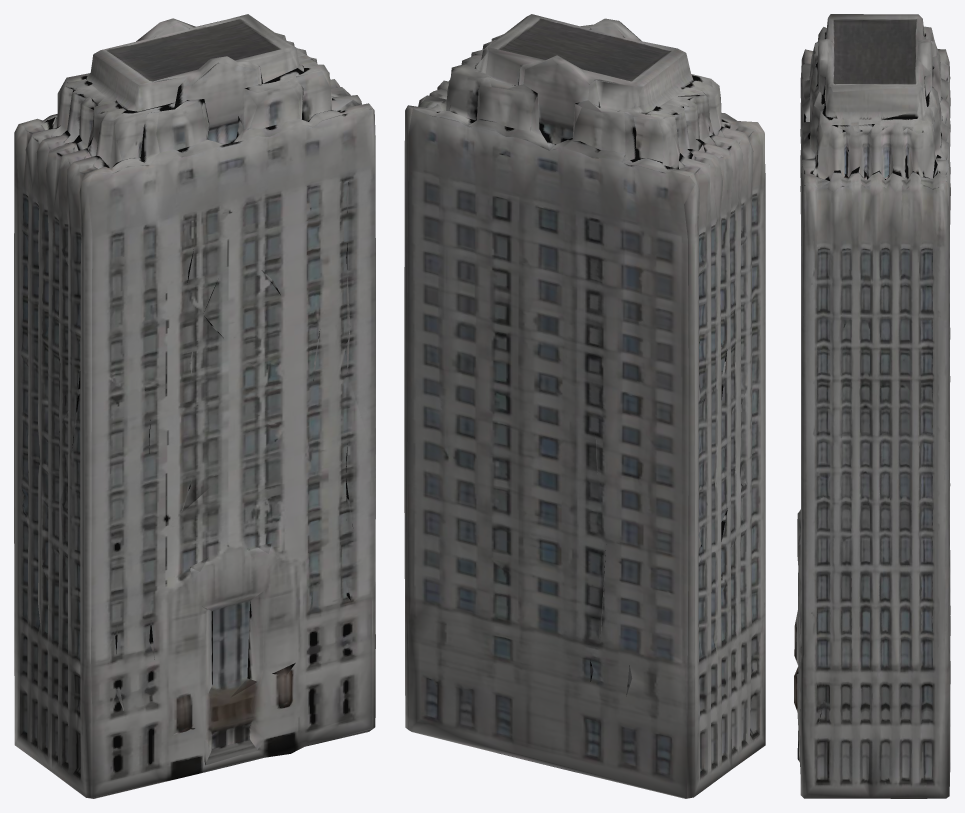
The model's file is chicago_motor_club.glb.
The picture shows the model from 3 angles, left to right: view 1: azimuth 30°, elevation 25°; view 2: azimuth 150°, elevation 25°; view 3: azimuth 270°, elevation 25°; orthographic projection.
Visible parts, largest first — view 1: chicago_motor_club; view 2: chicago_motor_club; view 3: chicago_motor_club.
Boxes of the visible parts, left/top/right/bottom form: chicago_motor_club: left=14, top=14, right=375, bottom=798; chicago_motor_club: left=404, top=14, right=765, bottom=798; chicago_motor_club: left=794, top=14, right=950, bottom=798.
Bounding box in the file's own units: 30 × 68 × 14.
Materials: 1 (1 with a texture image).
